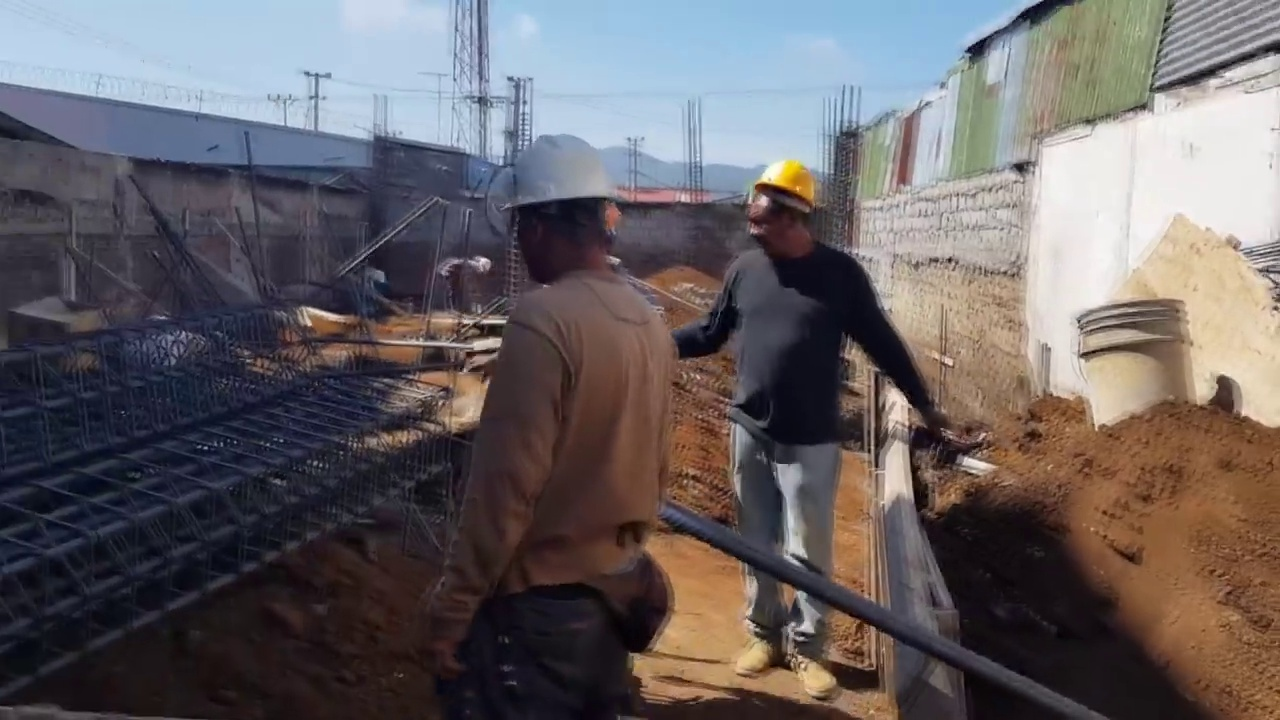helmet: (504, 132, 624, 210), (744, 155, 823, 214)
helmet-on: (496, 129, 633, 282), (747, 159, 823, 267)
person: (418, 123, 682, 711), (691, 151, 952, 707)
